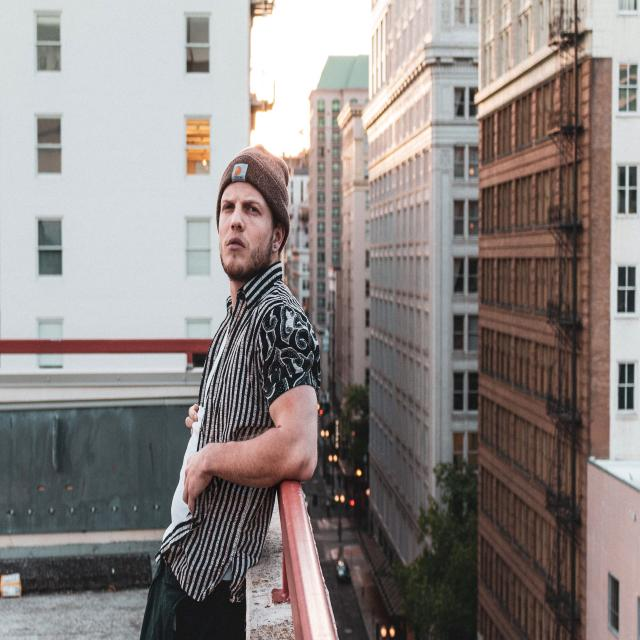adult: (142, 143, 319, 640)
